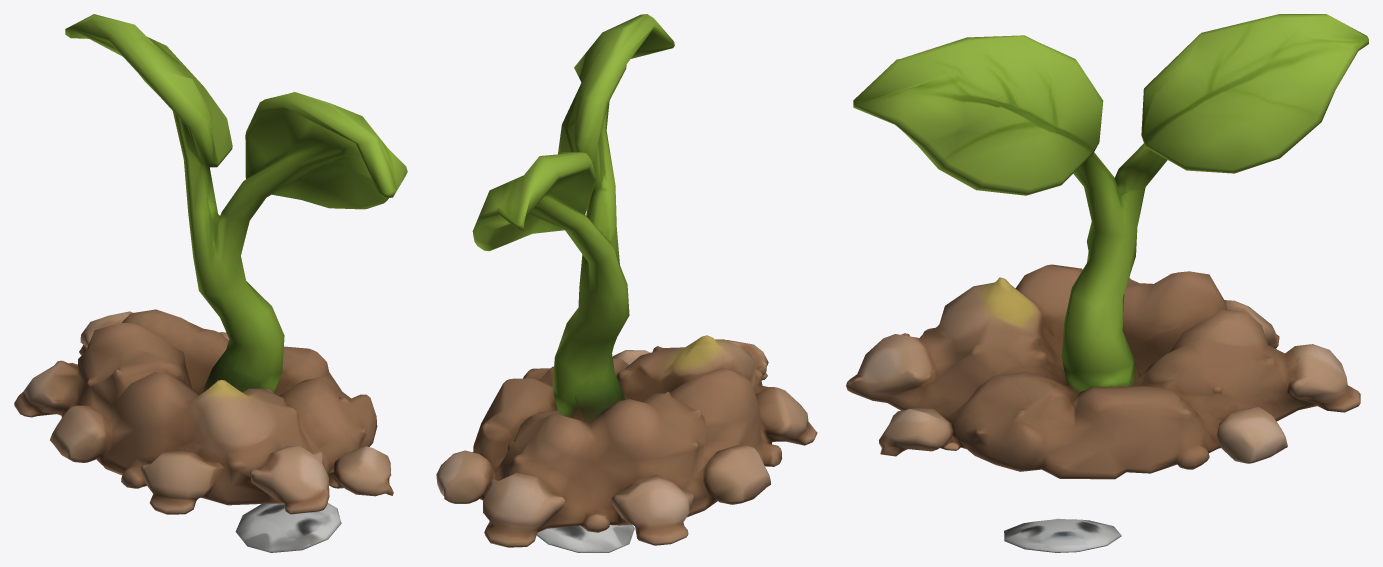
3 renders of one model, left to right at view 1: azimuth 30°, elevation 25°; view 2: azimuth 150°, elevation 25°; view 3: azimuth 270°, elevation 25°, orthographic. The views are drawn at different scales.
Visible parts, largest first — view 1: tripo_node_27dfa2df-fa8c-446b-a882-b3832c5abc8e; view 2: tripo_node_27dfa2df-fa8c-446b-a882-b3832c5abc8e; view 3: tripo_node_27dfa2df-fa8c-446b-a882-b3832c5abc8e.
Part boxes in pixels (box(x1,y1,x2,y2)): tripo_node_27dfa2df-fa8c-446b-a882-b3832c5abc8e: box(14, 14, 407, 552); tripo_node_27dfa2df-fa8c-446b-a882-b3832c5abc8e: box(436, 14, 817, 552); tripo_node_27dfa2df-fa8c-446b-a882-b3832c5abc8e: box(846, 14, 1368, 552).
Bounding box in the file's own units: 0.6226 × 1 × 0.9376.
1 material, 1 textured.
